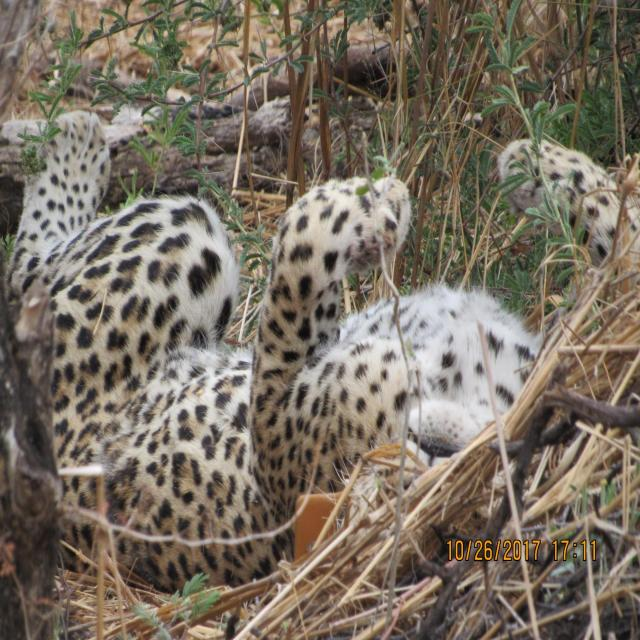Leopard: (2, 66, 632, 612)
